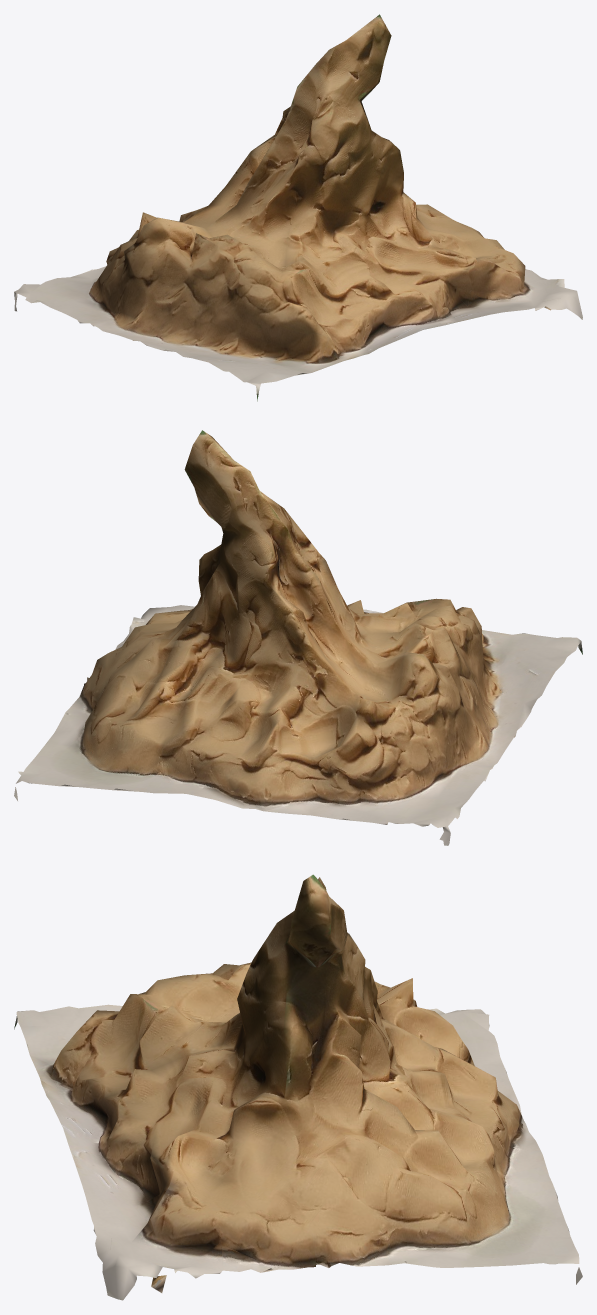
Rendered from GPGre_MamanLOD16.fbx.
The picture shows the model from 3 angles, top to bottom: view 1: azimuth 30°, elevation 25°; view 2: azimuth 150°, elevation 25°; view 3: azimuth 270°, elevation 25°; orthographic projection. The views are drawn at different scales.
Visible parts, largest first — view 1: Model; view 2: Model; view 3: Model.
Boxes of the visible parts, x1=… form: Model: x1=14, y1=14, x2=582, y2=401; Model: x1=14, y1=430, x2=582, y2=845; Model: x1=14, y1=874, x2=582, y2=1300.
Size of the model in its own units: 2.34 by 1.53 by 2.15.
